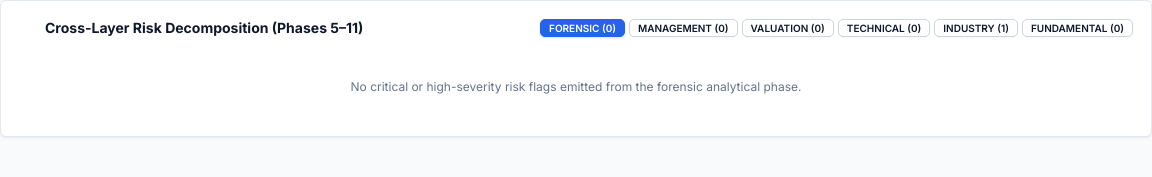
Phase 12 — Catalyst & Risk UI Components Integration Tests › renders CrossLayerRiskBreakdownCard and allows tab switching
Check: the heading "Cross-Layer Risk Decomposition (Phases 5–11)" is shown, box left=45, top=17, right=363, bottom=38
Step 1. Click the button "INDUSTRY (1)" → (976, 28), box left=934, top=18, right=1018, bottom=36
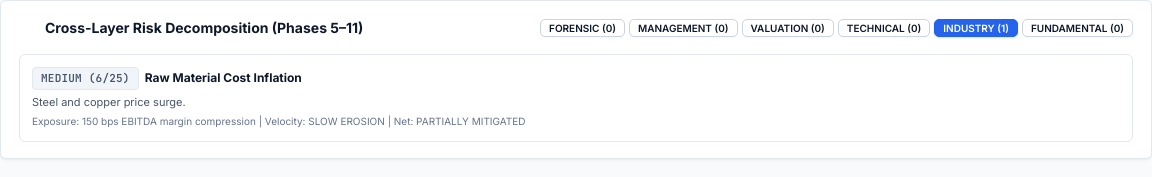
Check: the text "Raw Material Cost Inflation" is shown, box left=145, top=69, right=302, bottom=87
